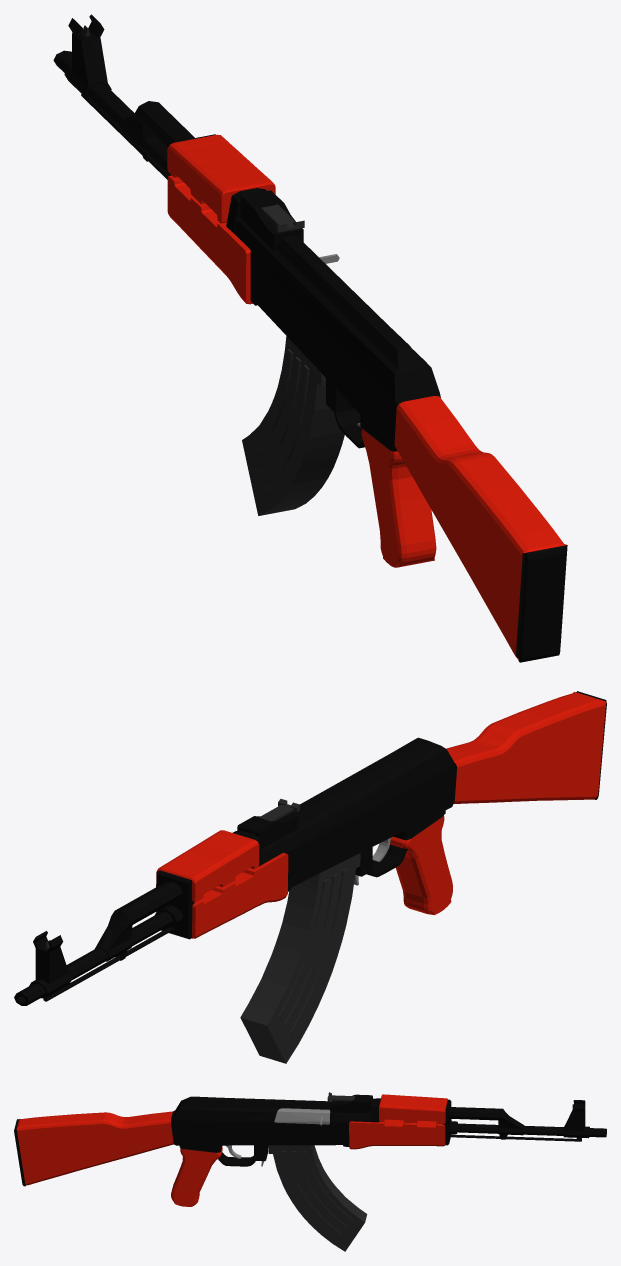
3 views of the same model, one above another, from view 1: azimuth 30°, elevation 25°; view 2: azimuth 150°, elevation 25°; view 3: azimuth 270°, elevation 25° (orthographic). The views are drawn at different scales.
Visible parts, largest first — view 1: gun; view 2: gun; view 3: gun.
Boxes of the visible parts, <box> form: gun: <box>53,14,567,662</box>; gun: <box>14,691,606,1063</box>; gun: <box>14,1092,606,1251</box>.
Bounding box in the file's own units: 0.3341 × 0.7204 × 2.48.
